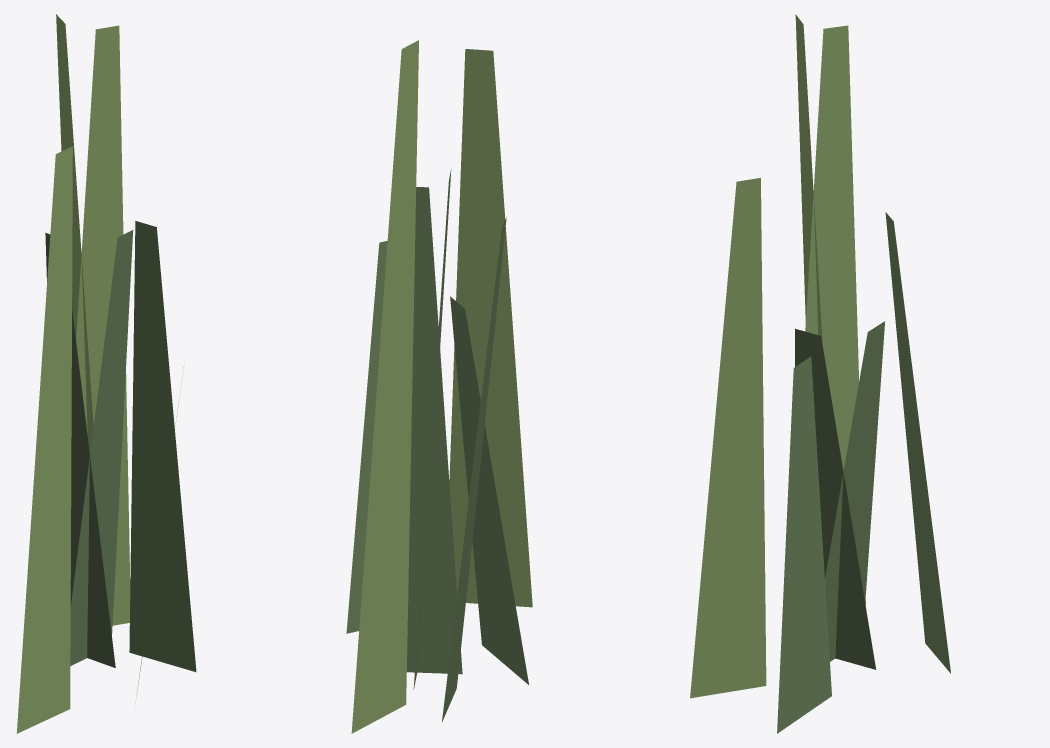
Rendered from nong.su@subadult__summer.glb.
3 views of the same model, side by side, from view 1: azimuth 30°, elevation 25°; view 2: azimuth 150°, elevation 25°; view 3: azimuth 270°, elevation 25° (orthographic). The views are drawn at different scales.
Visible parts, largest first — view 1: nong.su@subadult__summer; view 2: nong.su@subadult__summer; view 3: nong.su@subadult__summer.
Boxes of the visible parts, x1,y1,x2,y2 form: nong.su@subadult__summer: (16, 14, 196, 733); nong.su@subadult__summer: (346, 40, 532, 733); nong.su@subadult__summer: (690, 14, 950, 733).
Bounding box in the file's own units: 0.2597 × 0.5438 × 0.27.
